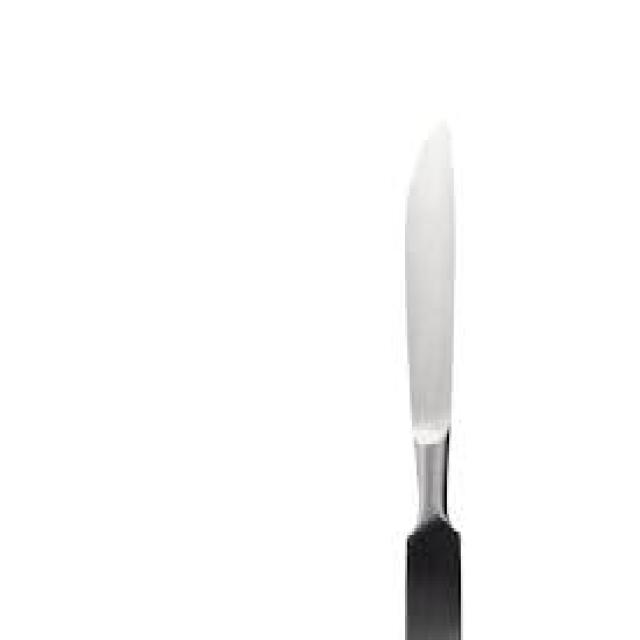Knife: (402, 116, 460, 636)
